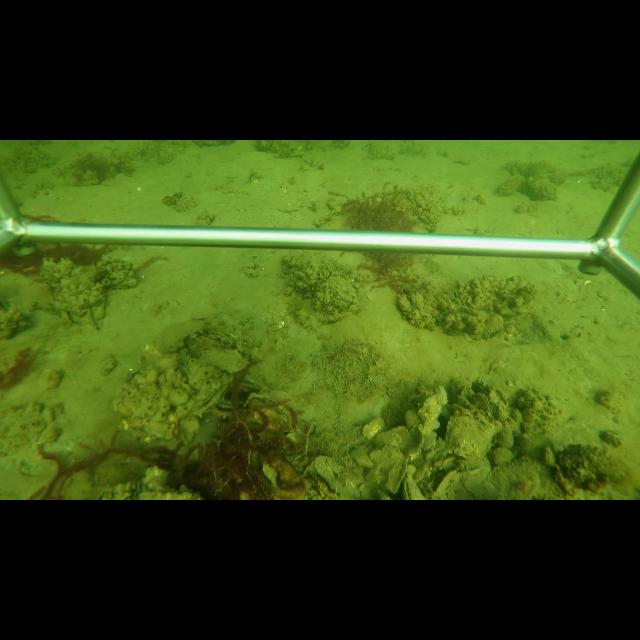Oyster-Closed: (115, 358, 234, 443), (443, 410, 504, 465), (198, 345, 251, 375), (403, 473, 429, 500)
